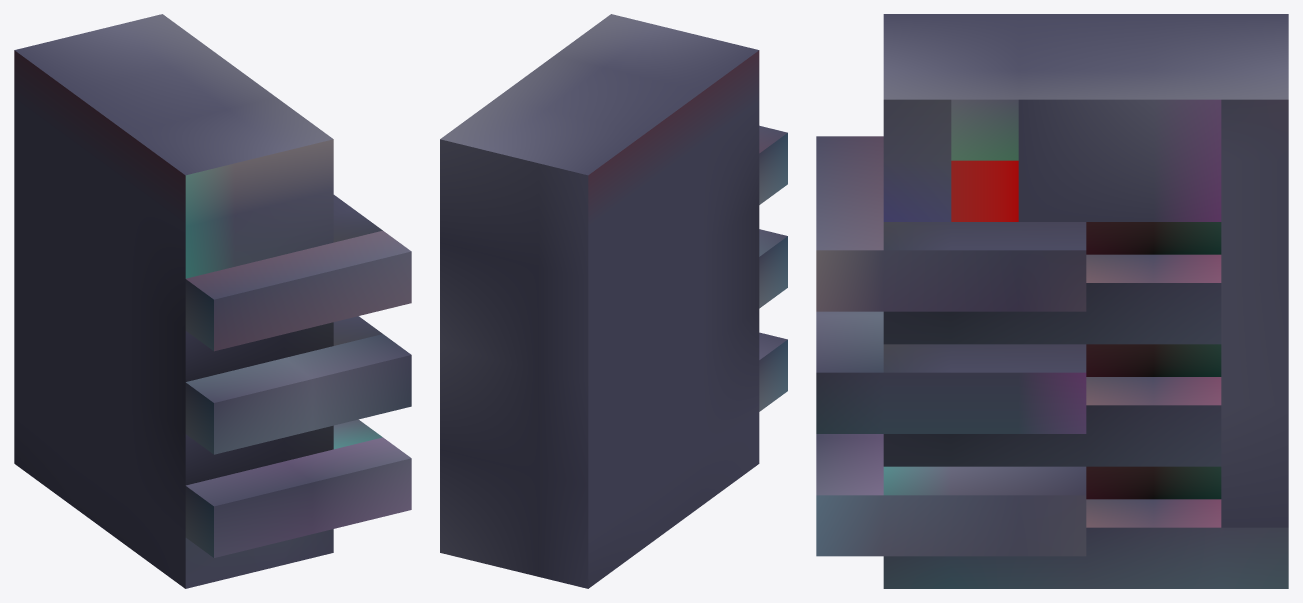
File: Device_I_00.fbx
3 renders of one model, left to right at view 1: azimuth 30°, elevation 25°; view 2: azimuth 150°, elevation 25°; view 3: azimuth 270°, elevation 25°, orthographic. The views are drawn at different scales.
Parts seen in each view (by area): view 1: Device_I_00; view 2: Device_I_00; view 3: Device_I_00.
Boxes of the visible parts, x1=… form: Device_I_00: x1=14, y1=14, x2=411, y2=588; Device_I_00: x1=440, y1=14, x2=787, y2=588; Device_I_00: x1=816, y1=14, x2=1288, y2=588.
Size of the model in its own units: 20 by 40 by 35.
